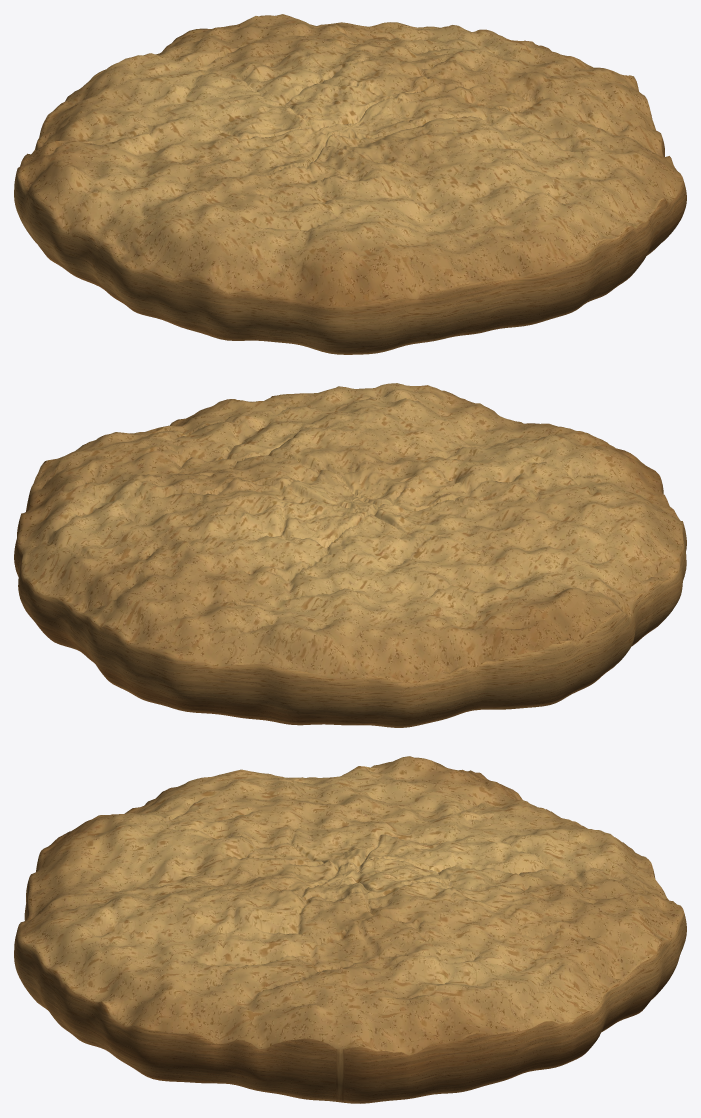
Rendered from banana-oat.glb.
3 views of the same model, one above another, from view 1: azimuth 30°, elevation 25°; view 2: azimuth 150°, elevation 25°; view 3: azimuth 270°, elevation 25° (orthographic). The views are drawn at different scales.
Parts seen in each view (by area): view 1: Builder dough | banana-oat; view 2: Builder dough | banana-oat; view 3: Builder dough | banana-oat.
Boxes of the visible parts, x1,y1,x2,y2 form: Builder dough | banana-oat: [14, 14, 686, 354]; Builder dough | banana-oat: [14, 383, 686, 727]; Builder dough | banana-oat: [14, 756, 686, 1103].
Bounding box in the file's own units: 4.99 × 0.8773 × 4.98.
2 materials, 2 textured.
